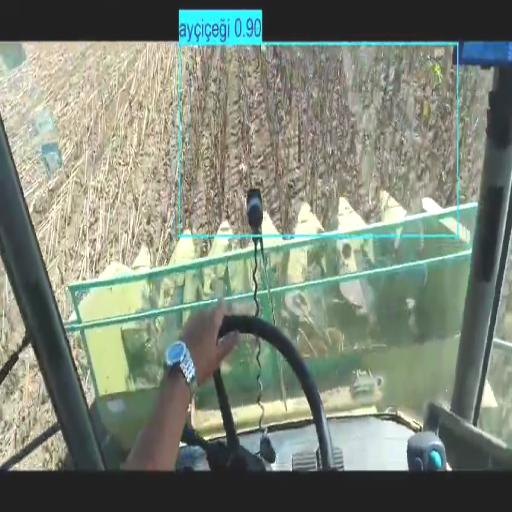ayc: (176, 47, 455, 232)
